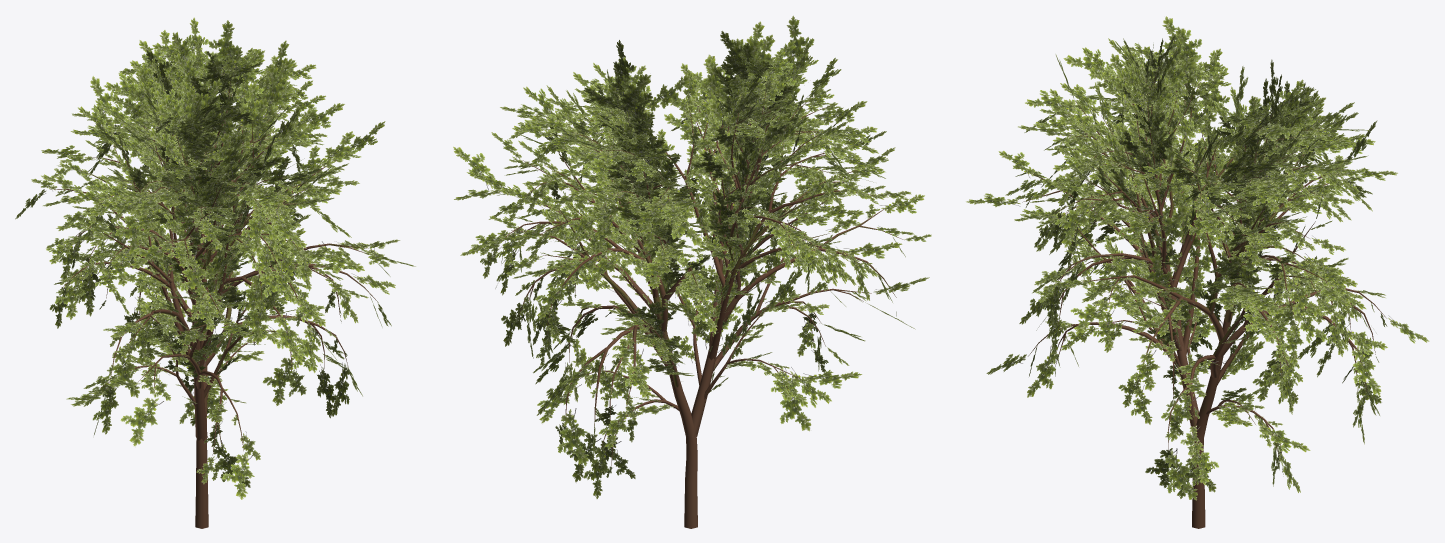
The model's file is Tree_LOD_single.fbx.
3 renders of one model, left to right at view 1: azimuth 30°, elevation 25°; view 2: azimuth 150°, elevation 25°; view 3: azimuth 270°, elevation 25°, orthographic. The views are drawn at different scales.
Parts seen in each view (by area): view 1: Tree1_mesh_LOD0; view 2: Tree1_mesh_LOD0; view 3: Tree1_mesh_LOD0.
Part boxes in pixels (x1=…): Tree1_mesh_LOD0: x1=15, y1=17, x2=415, y2=528; Tree1_mesh_LOD0: x1=453, y1=15, x2=931, y2=528; Tree1_mesh_LOD0: x1=966, y1=16, x2=1429, y2=528.
Size of what is drawn, in the model's own units: 574 by 692 by 602.
